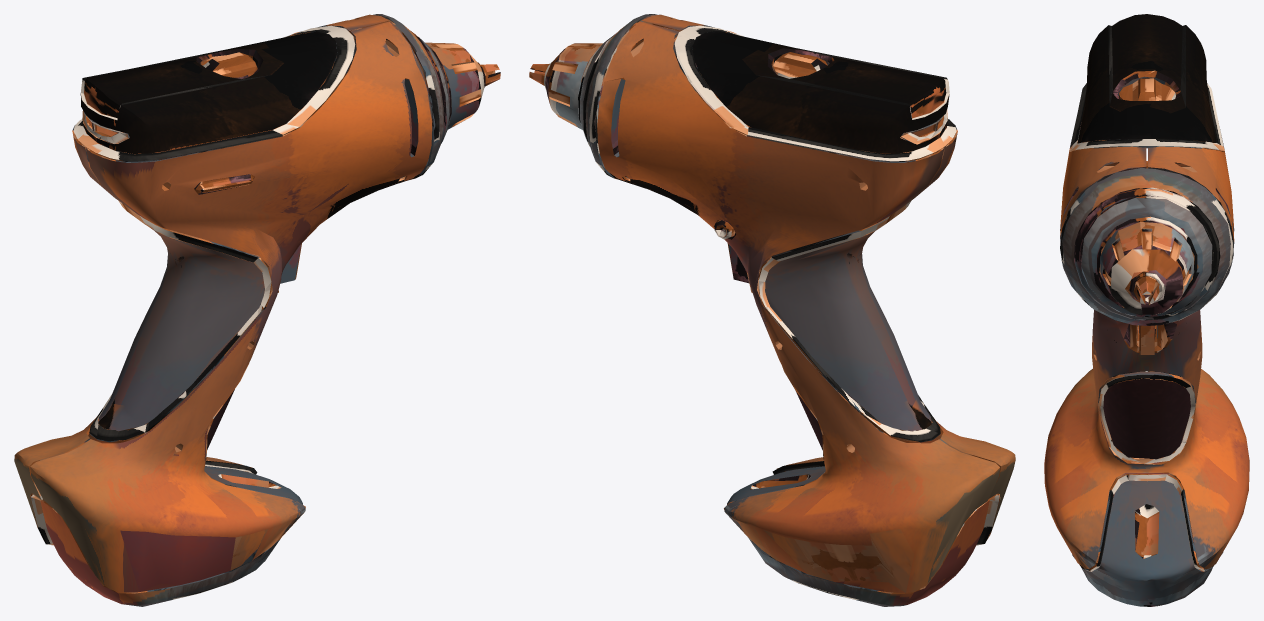
The model's file is LO_drill.glb.
The picture shows the model from 3 angles, left to right: view 1: azimuth 30°, elevation 25°; view 2: azimuth 150°, elevation 25°; view 3: azimuth 270°, elevation 25°; orthographic projection.
Parts seen in each view (by area): view 1: cuerpo entero; view 2: cuerpo entero; view 3: cuerpo entero.
Boxes of the visible parts, x1,y1,x2,y2 form: cuerpo entero: (14, 14, 500, 606); cuerpo entero: (529, 14, 1015, 606); cuerpo entero: (1044, 14, 1249, 606).
Size of the model in its own units: 0.1681 by 0.1735 by 0.0629.
Materials: 1 (1 with a texture image).
